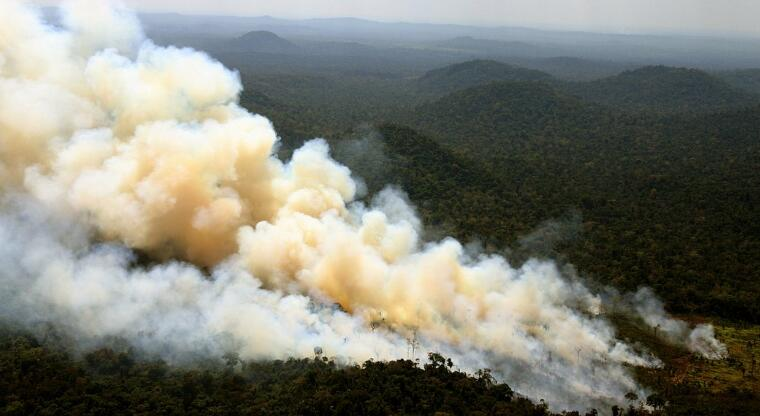yanwu: (1, 0, 676, 413)
